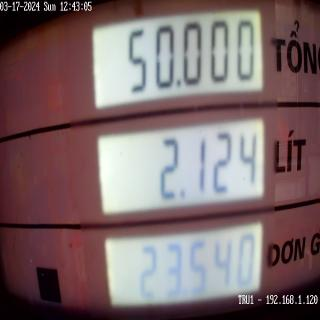screen: (82, 0, 270, 319)
